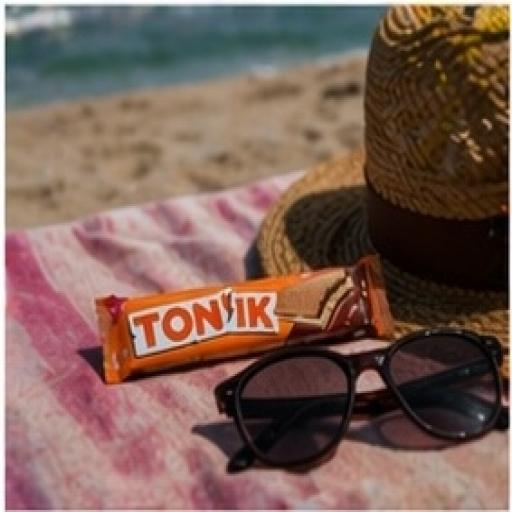tonik: (39, 178, 434, 441)
